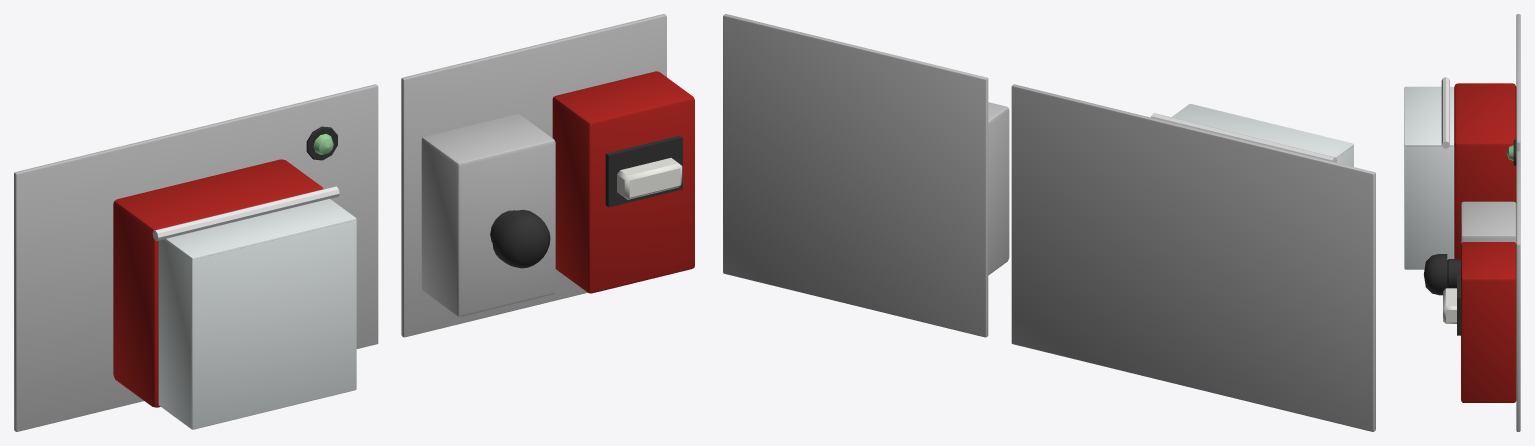
Rendered from Kit_EPOStation_Halon.fbx.
The picture shows the model from 3 angles, left to right: view 1: azimuth 30°, elevation 25°; view 2: azimuth 150°, elevation 25°; view 3: azimuth 270°, elevation 25°; orthographic projection. The views are drawn at different scales.
Visible parts, largest first — view 1: Kit_EPOStation_Halon_LOD0; view 2: Kit_EPOStation_Halon_LOD0; view 3: Kit_EPOStation_Halon_LOD0.
Part boxes in pixels (x1,y1,x2,y2): Kit_EPOStation_Halon_LOD0: [14, 14, 694, 431]; Kit_EPOStation_Halon_LOD0: [723, 14, 1375, 431]; Kit_EPOStation_Halon_LOD0: [1404, 14, 1520, 431].
Size of what is drawn, in the model's own units: 0.395 by 0.15 by 0.084.
